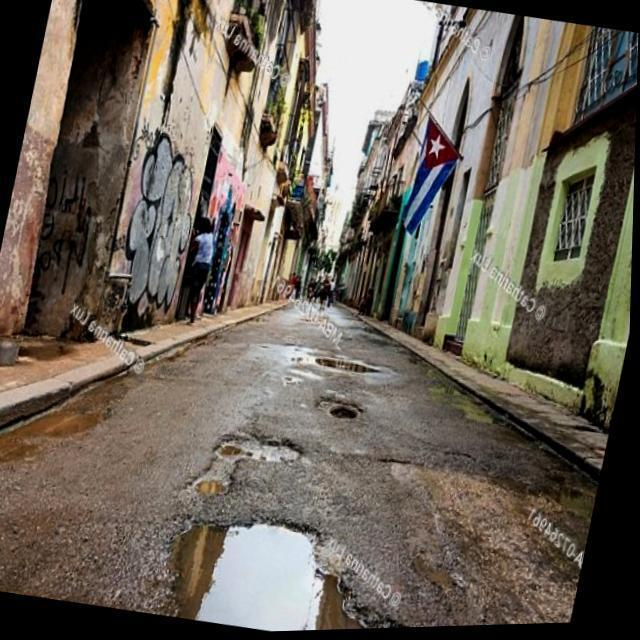Pothole: (160, 520, 400, 633), (193, 432, 303, 507), (319, 396, 362, 425), (316, 358, 383, 376)
